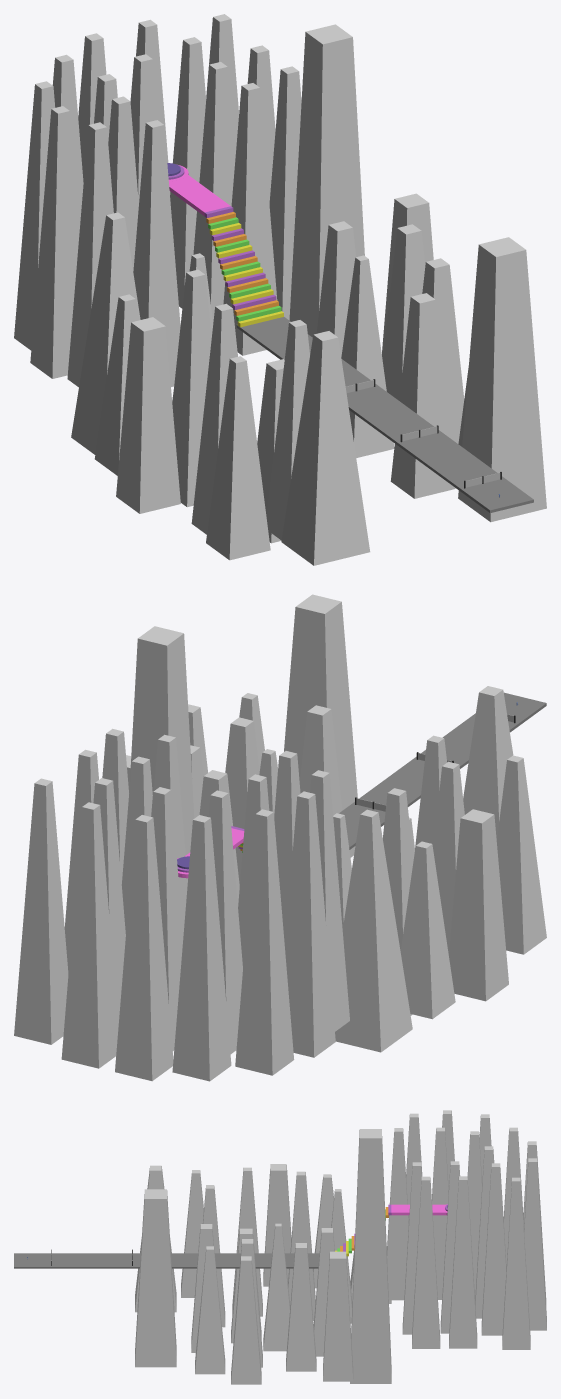
The model's file is stick_man_dagl_cevre_1-2.fbx.
3 views of the same model, one above another, from view 1: azimuth 30°, elevation 25°; view 2: azimuth 150°, elevation 25°; view 3: azimuth 270°, elevation 25° (orthographic). The views are drawn at different scales.
Visible parts, largest first — view 1: Cube.056, Cube.057, Cube.046, Cube.044, Cube.068, Cube, Cube.043, Cube.067, Cube.047, Cube.053, Cube.041, Cube.058 (+23 smaller); view 2: Cube.047, Cube.069, Cube.070, Cube.071, Cube.073, Cube.072, Cube.068, Cube.044, Cube.056, Cube.057, Cube.043, Cube.045 (+23 smaller); view 3: Cube.057, Cube.056, Cube, Cube.061, Cube.072, Cube.059, Cube.052, Cube.062, Cube.051, Cube.049, Cube.073, Cube.067 (+25 smaller).
Part boxes in pixels (<box>): Cube.056: <box>458,237,546,522</box>; Cube.057: <box>289,24,364,337</box>; Cube.046: <box>281,331,370,565</box>; Cube.044: <box>116,317,180,513</box>; Cube.068: <box>30,106,79,378</box>; Cube: <box>236,317,533,513</box>; Cube.043: <box>206,356,270,560</box>; Cube.067: <box>133,120,180,386</box>; Cube.047: <box>71,212,140,454</box>; Cube.053: <box>390,293,455,498</box>; Cube.041: <box>172,269,211,507</box>; Cube.058: <box>223,83,277,355</box>; Cube.047: <box>335,809,412,1052</box>; Cube.069: <box>235,809,294,1075</box>; Cube.070: <box>172,815,231,1081</box>; Cube.071: <box>115,815,173,1081</box>; Cube.073: <box>61,802,118,1068</box>; Cube.072: <box>14,778,68,1044</box>; Cube.068: <box>285,791,335,1057</box>; Cube.044: <box>449,809,508,1001</box>; Cube.056: <box>284,594,357,857</box>; Cube.057: <box>129,626,194,879</box>; Cube.043: <box>496,755,546,954</box>; Cube.045: <box>400,841,455,1019</box>; Cube.057: <box>350,1129,391,1383</box>; Cube.056: <box>135,1189,176,1367</box>; Cube: <box>14,1253,319,1268</box>; Cube.061: <box>449,1176,477,1348</box>; Cube.072: <box>502,1177,530,1349</box>; Cube.059: <box>412,1176,440,1348</box>; Cube.052: <box>323,1251,353,1381</box>; Cube.062: <box>481,1163,506,1335</box>; Cube.051: <box>286,1243,316,1371</box>; Cube.049: <box>231,1256,261,1384</box>; Cube.073: <box>524,1158,546,1330</box>; Cube.067: <box>387,1128,408,1300</box>.
Size of what is drawn, in the model's own units: 6586 by 6773 by 13131.
